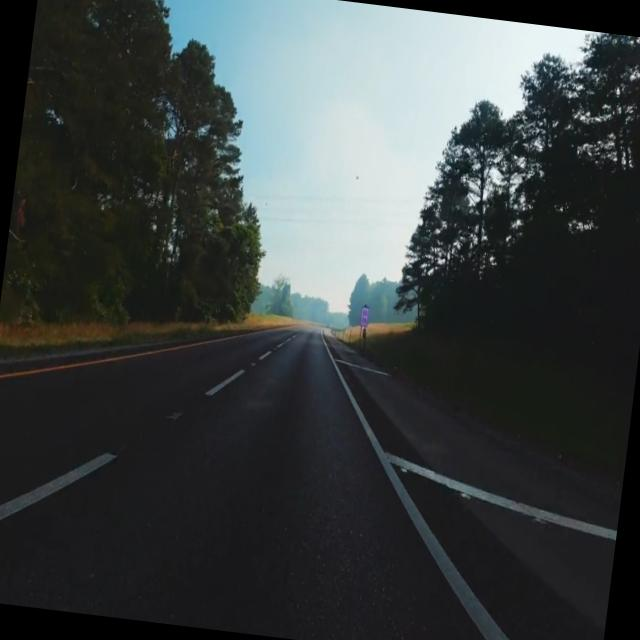asphalt: (0, 325, 622, 640)
grass: (365, 323, 636, 487), (0, 314, 294, 359)
